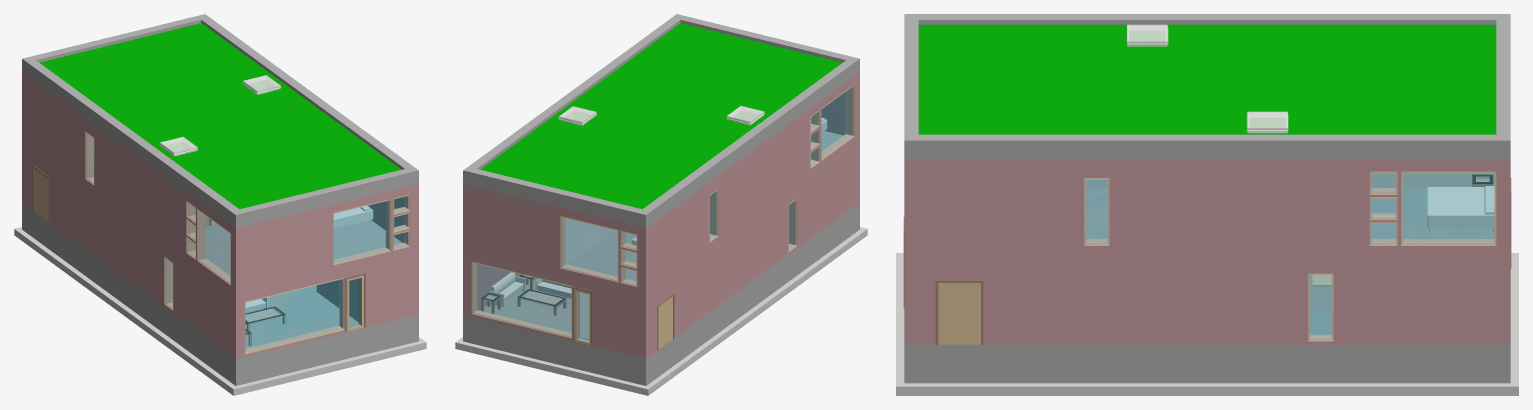
3 views of the same model, side by side, from view 1: azimuth 30°, elevation 25°; view 2: azimuth 150°, elevation 25°; view 3: azimuth 270°, elevation 25° (orthographic). The views are drawn at different scales.
Parts seen in each view (by area): view 1: 09g7Eo3WDEihdnsYS1YDoI, 2O2Fr$t4X7Zf8NOew3FNhv, 2O2Fr$t4X7Zf8NOew3FLPP, 2O2Fr$t4X7Zf8NOew3FLOH, 2O2Fr$t4X7Zf8NOew3FNr2, 2O2Fr$t4X7Zf8NOew3FKE5, 1hOSvn6df7F8_7GcBWlRBU, 2O2Fr$t4X7Zf8NOew3FKEr, 0jf0rYHfX3RAB3bSIRjmr1, 2OBrcmyk58NupXoVOHUtxr, 0jf0rYHfX3RAB3bSIRjmoa, 1hOSvn6df7F8_7GcBWlS_W (+19 smaller); view 2: 09g7Eo3WDEihdnsYS1YDoI, 2O2Fr$t4X7Zf8NOew3FNhv, 2O2Fr$t4X7Zf8NOew3FLPP, 2O2Fr$t4X7Zf8NOew3FLQD, 2O2Fr$t4X7Zf8NOew3FNtn, 2O2Fr$t4X7Zf8NOew3FKE5, 1hOSvn6df7F8_7GcBWlR72, 2O2Fr$t4X7Zf8NOew3FK80, 0jf0rYHfX3RAB3bSIRjmr1, 0jf0rYHfX3RAB3bSIRjmmy, 1hOSvn6df7F8_7GcBWlSXO, 0kF45Qs8L9PAM9kmb1lT5t (+18 smaller); view 3: 09g7Eo3WDEihdnsYS1YDoI, 2O2Fr$t4X7Zf8NOew3FNqI, 2O2Fr$t4X7Zf8NOew3FLR9, 2O2Fr$t4X7Zf8NOew3FK9N, 0jf0rYHfX3RAB3bSIRjmpw, 0kF45Qs8L9PAM9kmb1lT5d, 1l0GAJtRTFv8$zmKJOH4pU, 0jf0rYHfX3RAB3bSIRjmr1, 1hOSvn6df7F8_7GcBWlRGQ, 2OBrcmyk58NupXoVOHUtI8, 2OBrcmyk58NupXoVOHUtDX, 0jf0rYHfX3RAB3bSIRjmmy (+16 smaller).
Part boxes in pixels (bbox=[...]): 09g7Eo3WDEihdnsYS1YDoI: bbox=[39, 23, 401, 209]; 2O2Fr$t4X7Zf8NOew3FNhv: bbox=[27, 139, 230, 354]; 2O2Fr$t4X7Zf8NOew3FLPP: bbox=[22, 72, 235, 291]; 2O2Fr$t4X7Zf8NOew3FLOH: bbox=[236, 183, 418, 291]; 2O2Fr$t4X7Zf8NOew3FNr2: bbox=[231, 249, 410, 358]; 2O2Fr$t4X7Zf8NOew3FKE5: bbox=[27, 206, 230, 382]; 1hOSvn6df7F8_7GcBWlRBU: bbox=[244, 277, 344, 354]; 2O2Fr$t4X7Zf8NOew3FKEr: bbox=[231, 316, 410, 385]; 0jf0rYHfX3RAB3bSIRjmr1: bbox=[27, 60, 238, 224]; 2OBrcmyk58NupXoVOHUtxr: bbox=[245, 285, 358, 348]; 0jf0rYHfX3RAB3bSIRjmoa: bbox=[231, 169, 410, 228]; 1hOSvn6df7F8_7GcBWlS_W: bbox=[333, 199, 391, 265]; 09g7Eo3WDEihdnsYS1YDoI: bbox=[480, 23, 842, 209]; 2O2Fr$t4X7Zf8NOew3FNhv: bbox=[651, 139, 854, 354]; 2O2Fr$t4X7Zf8NOew3FLPP: bbox=[646, 72, 859, 291]; 2O2Fr$t4X7Zf8NOew3FLQD: bbox=[463, 183, 645, 291]; 2O2Fr$t4X7Zf8NOew3FNtn: bbox=[463, 247, 650, 358]; 2O2Fr$t4X7Zf8NOew3FKE5: bbox=[651, 206, 854, 382]; 1hOSvn6df7F8_7GcBWlR72: bbox=[471, 261, 572, 338]; 2O2Fr$t4X7Zf8NOew3FK80: bbox=[463, 314, 650, 385]; 0jf0rYHfX3RAB3bSIRjmr1: bbox=[643, 60, 854, 224]; 0jf0rYHfX3RAB3bSIRjmmy: bbox=[463, 167, 650, 228]; 1hOSvn6df7F8_7GcBWlSXO: bbox=[560, 216, 618, 282]; 0kF45Qs8L9PAM9kmb1lT5t: bbox=[629, 235, 856, 395]; 09g7Eo3WDEihdnsYS1YDoI: bbox=[918, 24, 1496, 134]; 2O2Fr$t4X7Zf8NOew3FNqI: bbox=[904, 249, 1496, 344]; 2O2Fr$t4X7Zf8NOew3FLR9: bbox=[904, 159, 1510, 248]; 2O2Fr$t4X7Zf8NOew3FK9N: bbox=[904, 344, 1496, 383]; 0jf0rYHfX3RAB3bSIRjmpw: bbox=[904, 134, 1496, 159]; 0kF45Qs8L9PAM9kmb1lT5d: bbox=[896, 373, 1518, 395]; 1l0GAJtRTFv8$zmKJOH4pU: bbox=[1401, 171, 1496, 245]; 0jf0rYHfX3RAB3bSIRjmr1: bbox=[918, 14, 1496, 24]; 1hOSvn6df7F8_7GcBWlRGQ: bbox=[935, 280, 983, 344]; 2OBrcmyk58NupXoVOHUtI8: bbox=[1427, 186, 1494, 231]; 2OBrcmyk58NupXoVOHUtDX: bbox=[1372, 189, 1494, 239]; 0jf0rYHfX3RAB3bSIRjmmy: bbox=[1496, 14, 1510, 159].
Size of the model in its own units: 9.28 by 8.18 by 18.28.
